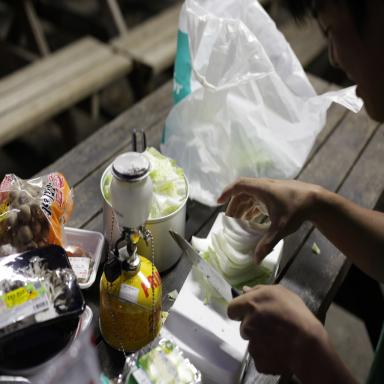plasticbag: (157, 0, 365, 207)
